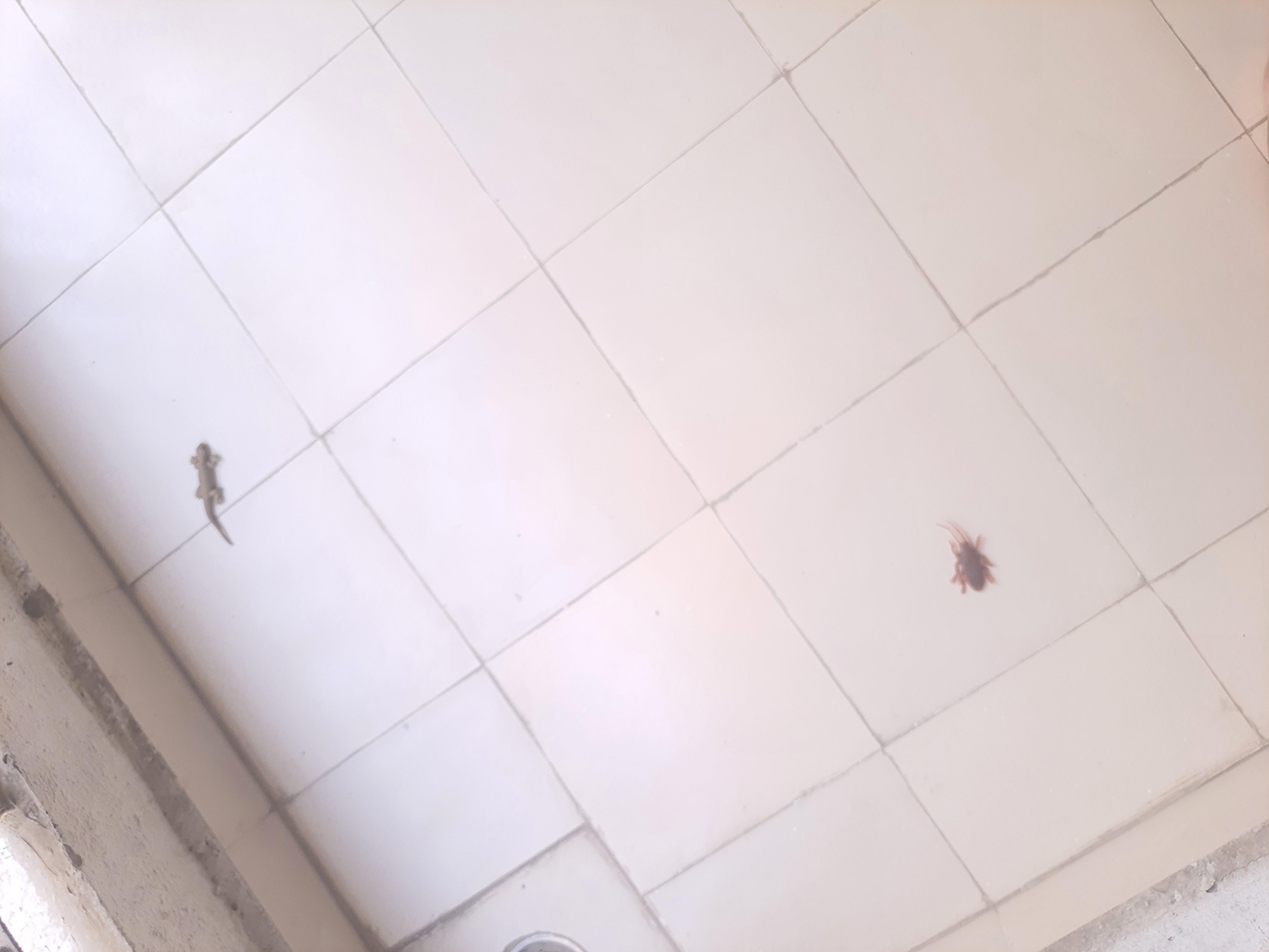cockroach: (462, 701, 576, 750)
lizard: (532, 132, 684, 178)
